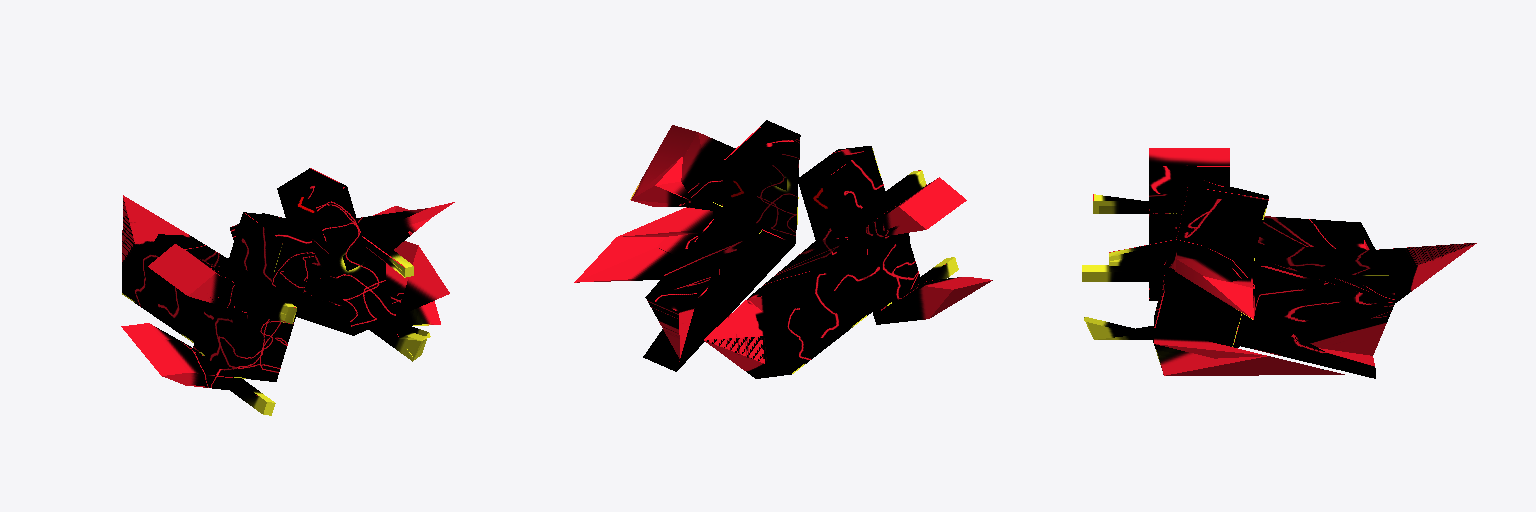
3 views of the same model, side by side, from view 1: azimuth 30°, elevation 25°; view 2: azimuth 150°, elevation 25°; view 3: azimuth 270°, elevation 25° (orthographic).
Parts seen in each view (by area): view 1: Cube.002; view 2: Cube.002; view 3: Cube.002.
Part boxes in pixels (x1,y1,x2,y2): Cube.002: (121,168,454,415); Cube.002: (574,120,992,378); Cube.002: (1082,148,1476,378).
Size of the model in its own units: 27.33 by 14.97 by 29.28.
Materials: 1 (1 with a texture image).